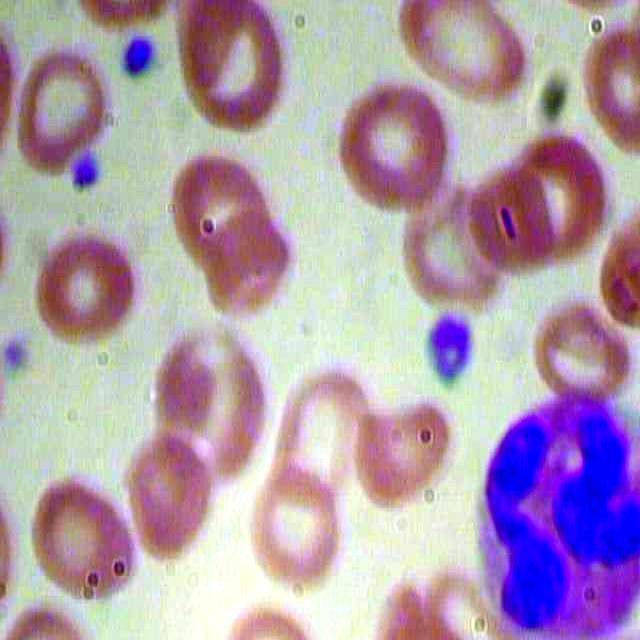Platelets: (413, 307, 482, 404), (112, 34, 164, 86), (68, 151, 113, 209)
RBC: (158, 320, 273, 481), (329, 77, 451, 224), (170, 1, 300, 135), (25, 469, 137, 603), (388, 2, 538, 102), (109, 424, 221, 557), (30, 224, 140, 352), (511, 125, 606, 268), (168, 147, 277, 270), (12, 47, 109, 177), (350, 390, 453, 510), (248, 461, 345, 588), (524, 295, 637, 401), (203, 202, 293, 306), (470, 163, 553, 273)
WBC: (472, 387, 640, 632)
